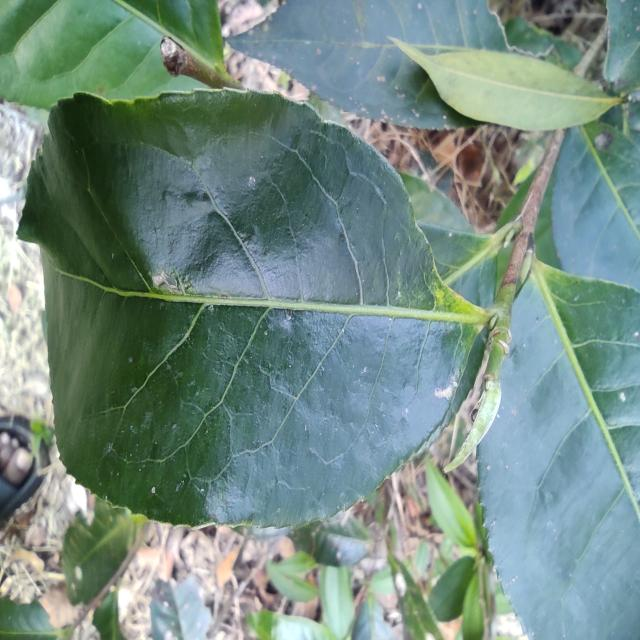Category D 7+ days, Not for Tea: (5, 74, 495, 541)
